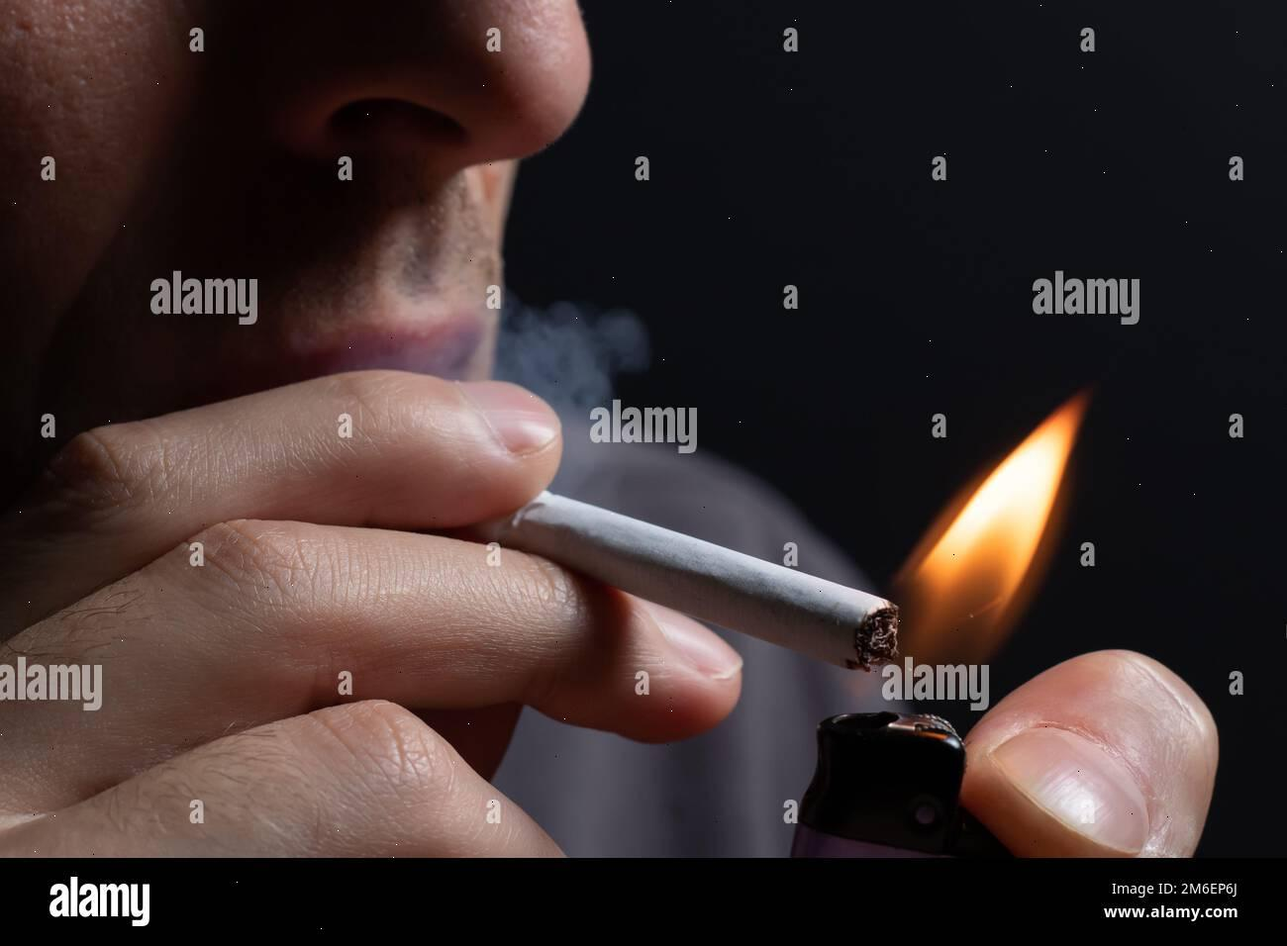cigarette: (471, 492, 897, 669)
